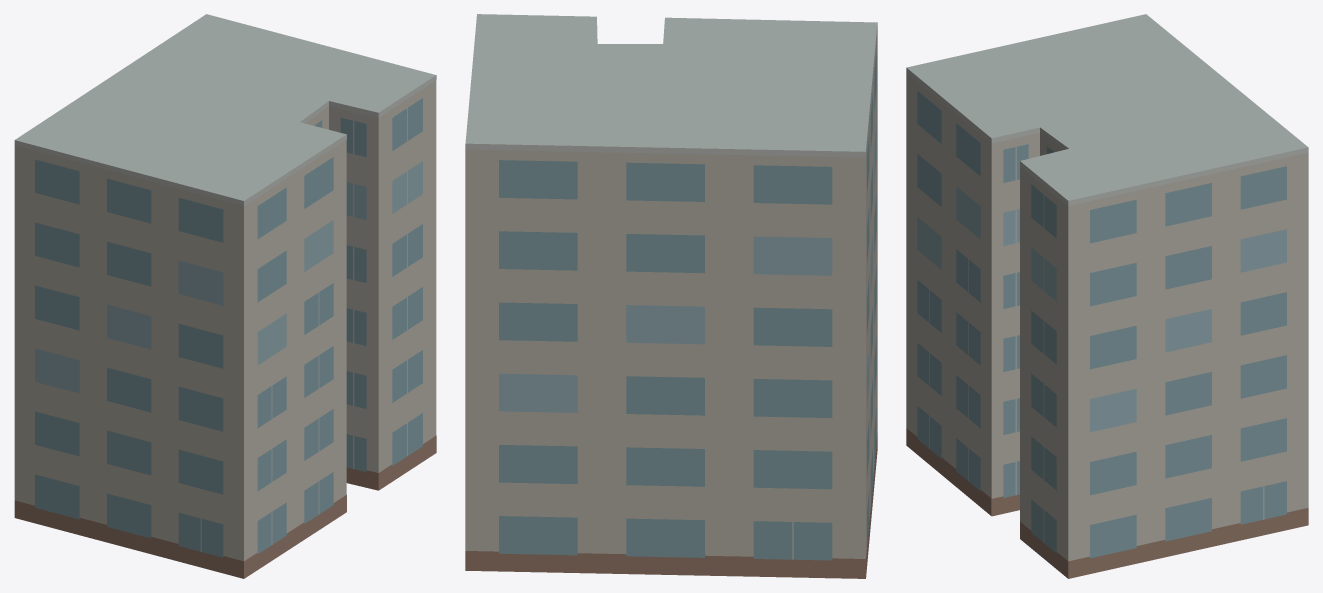
The model's file is survey-upis-32806288.glb.
3 renders of one model, left to right at view 1: azimuth 30°, elevation 25°; view 2: azimuth 150°, elevation 25°; view 3: azimuth 270°, elevation 25°, orthographic. The views are drawn at different scales.
Visible parts, largest first — view 1: survey-upis-32806288.tmp; view 2: survey-upis-32806288.tmp; view 3: survey-upis-32806288.tmp.
Boxes of the visible parts, x1,y1,x2,y2 form: survey-upis-32806288.tmp: (14,14,436,578); survey-upis-32806288.tmp: (465,14,877,578); survey-upis-32806288.tmp: (906,14,1308,578).
Bounding box in the file's own units: 18.99 × 17.9 × 17.27.
